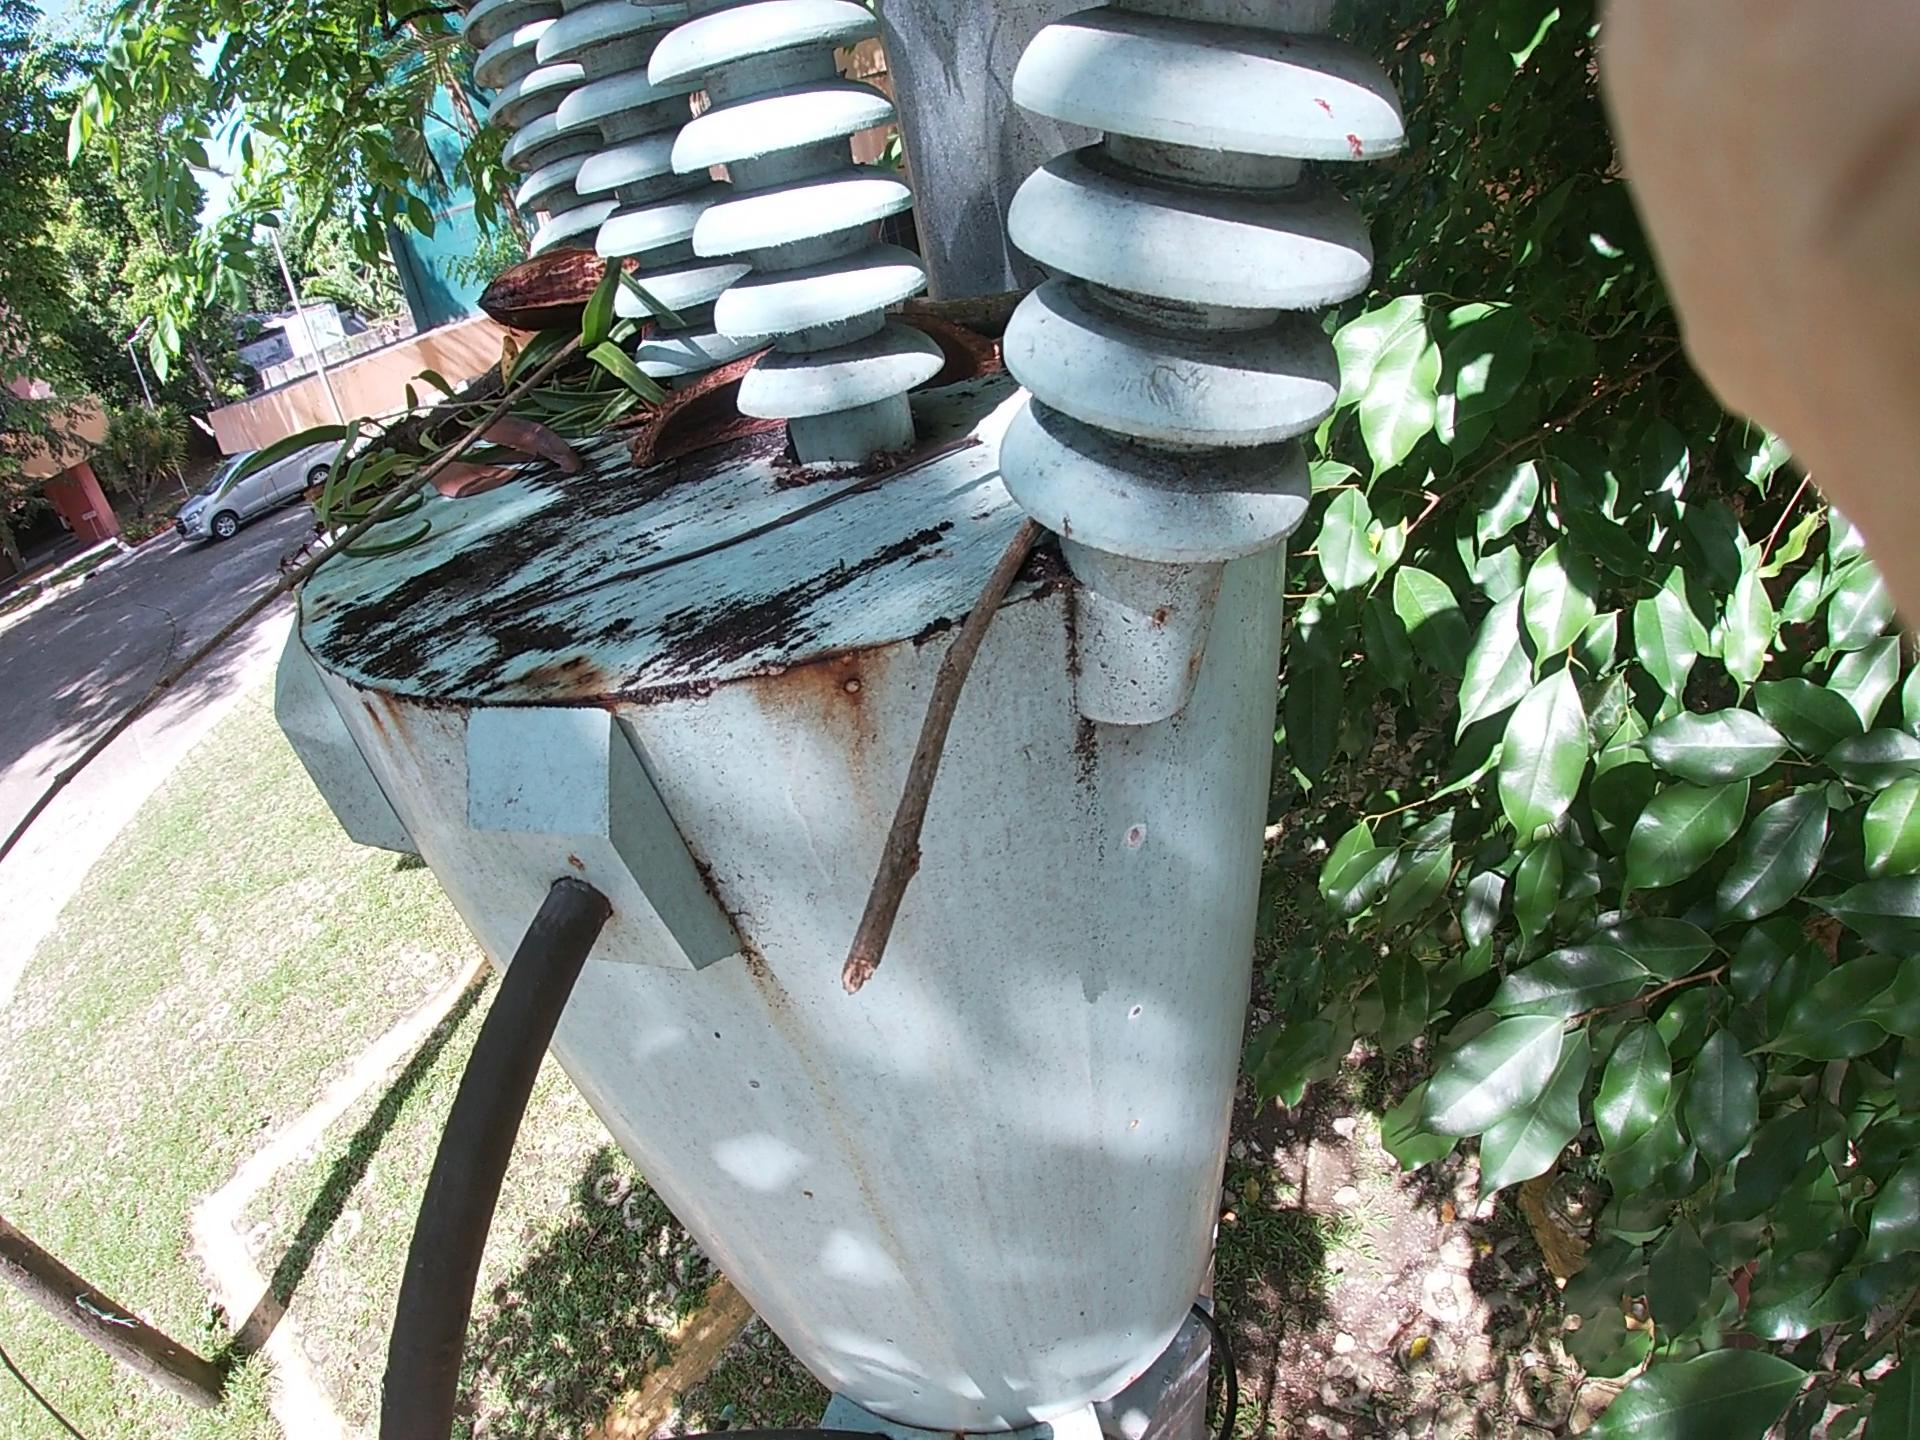branch with leaves: (357, 231, 708, 532)
leaf: (404, 414, 541, 554)
mahogany fruit: (618, 337, 800, 529), (472, 234, 618, 437)
tree branch: (21, 360, 561, 867), (859, 532, 1197, 995), (522, 442, 1076, 617)
